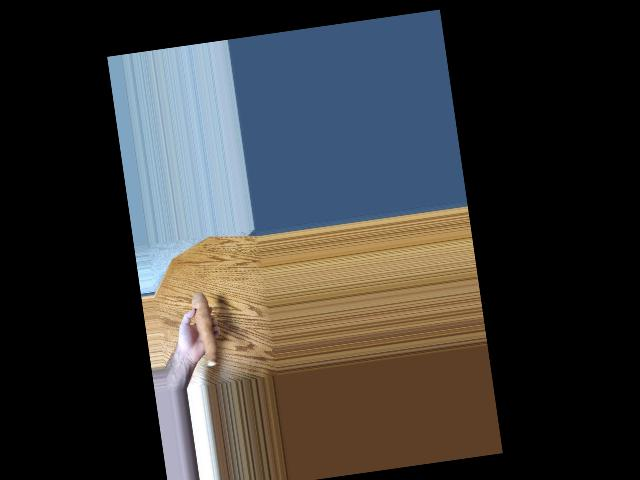sweet_potato: (194, 290, 222, 361)
